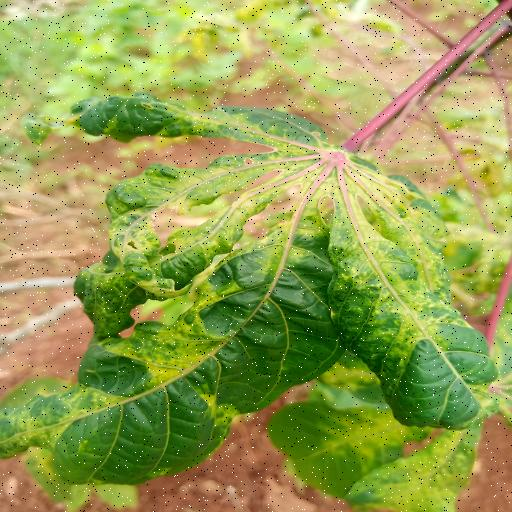Cassava_Mosaic: (0, 84, 512, 490)
